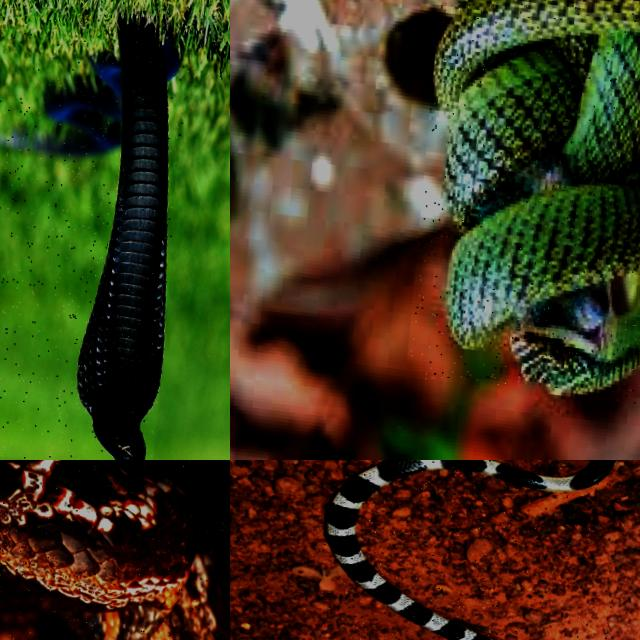Bungarus candidus: (325, 460, 614, 639)
Chrysopelea ornata: (433, 0, 639, 394)
Ophiophagus hannah: (0, 19, 179, 459)
Ovophis monticola: (0, 460, 229, 639)
